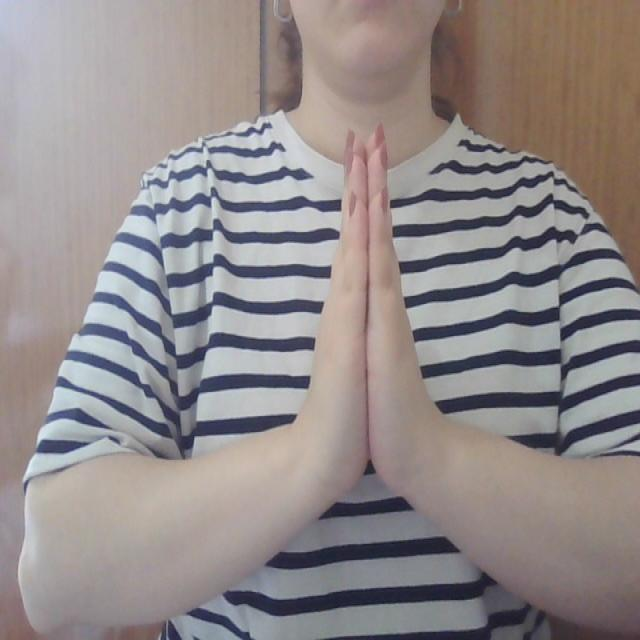Ozur-Dilemek: (302, 117, 440, 519)
